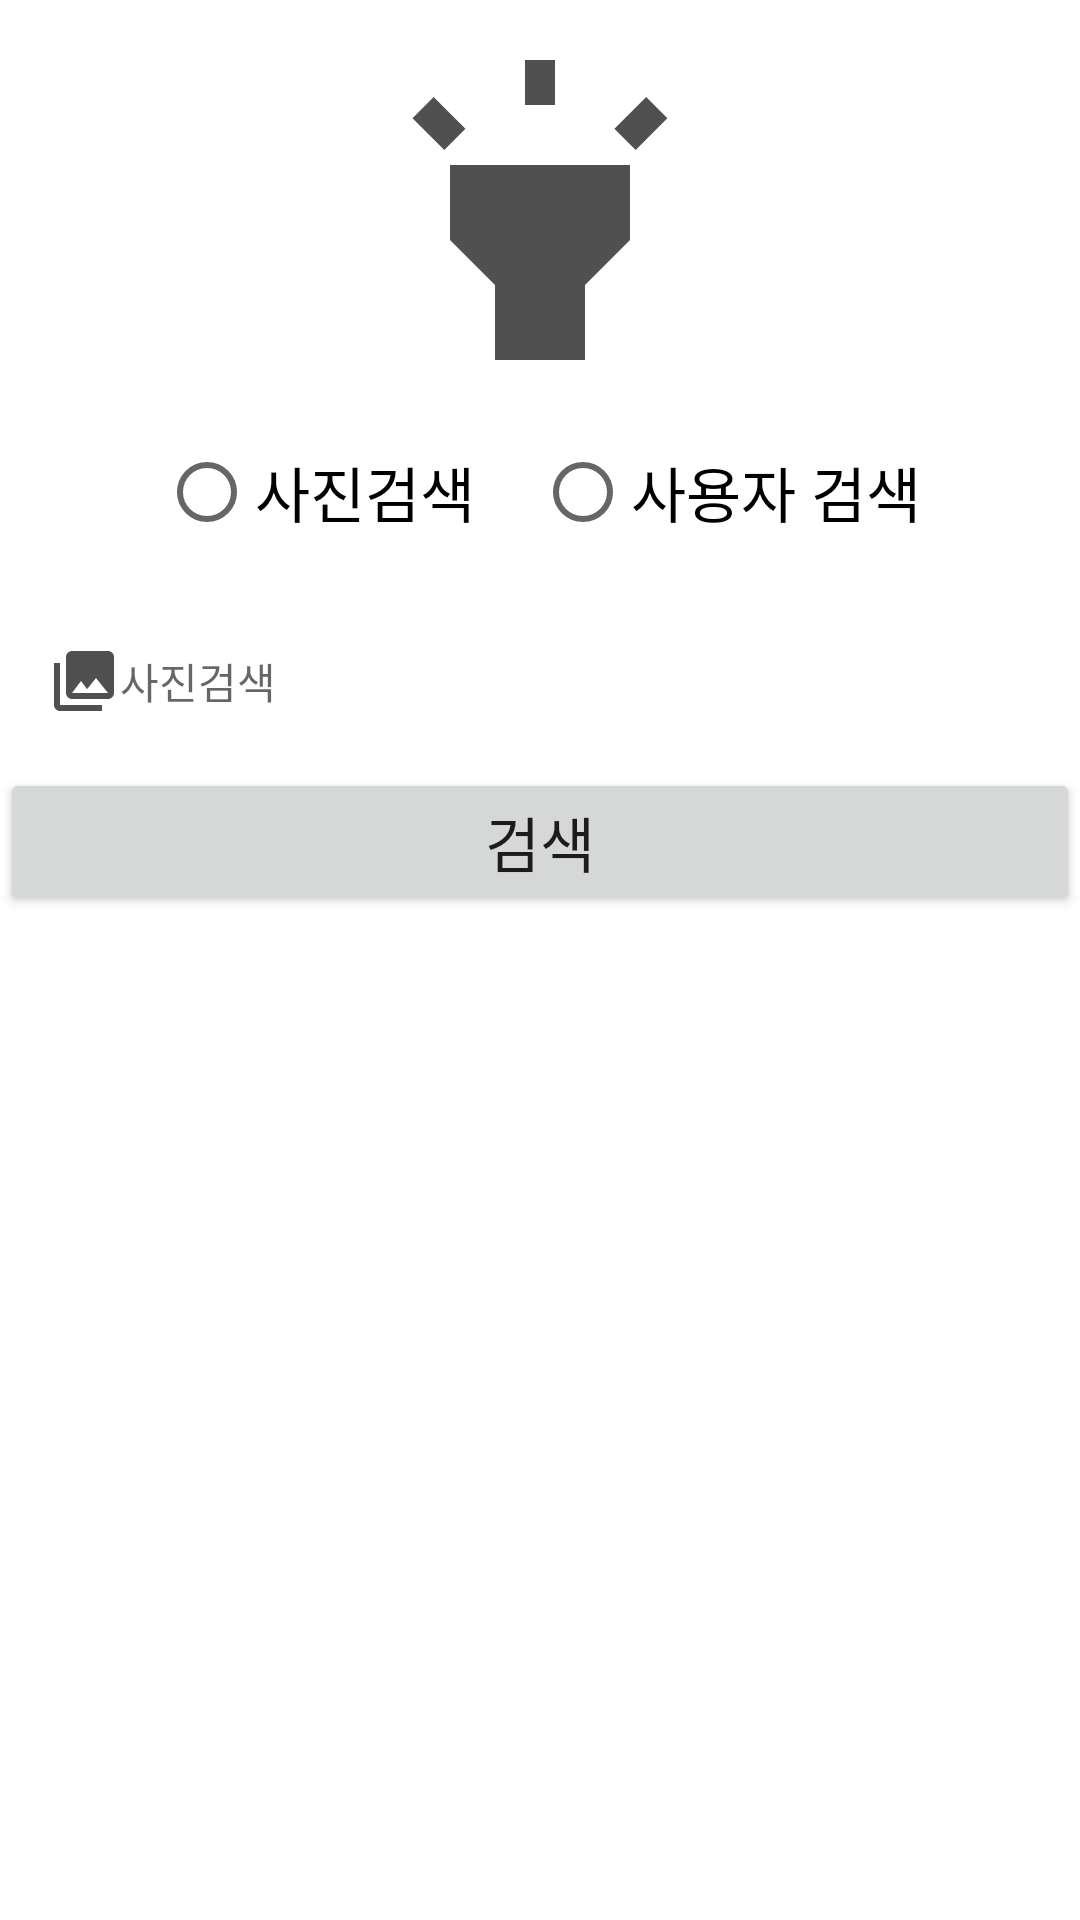

Point at icon controls on the screen. Image size 1080×1920, points as point (x, y).
highlight: point (539, 210)
